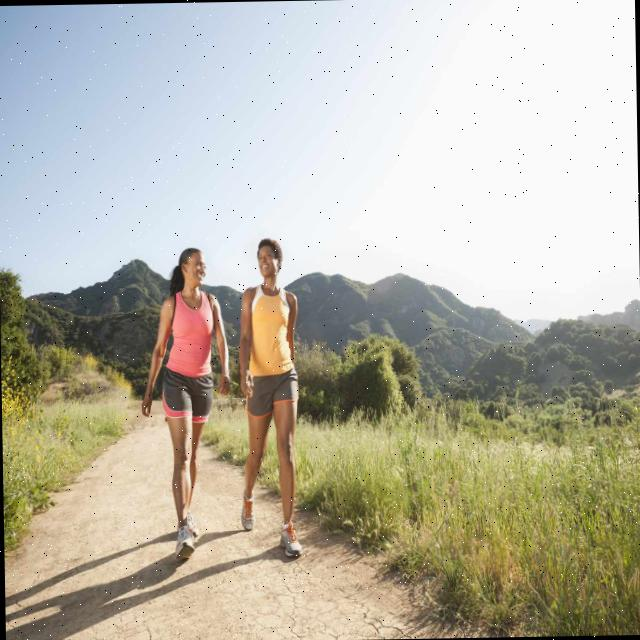Person: (139, 247, 232, 561), (236, 235, 302, 558)
